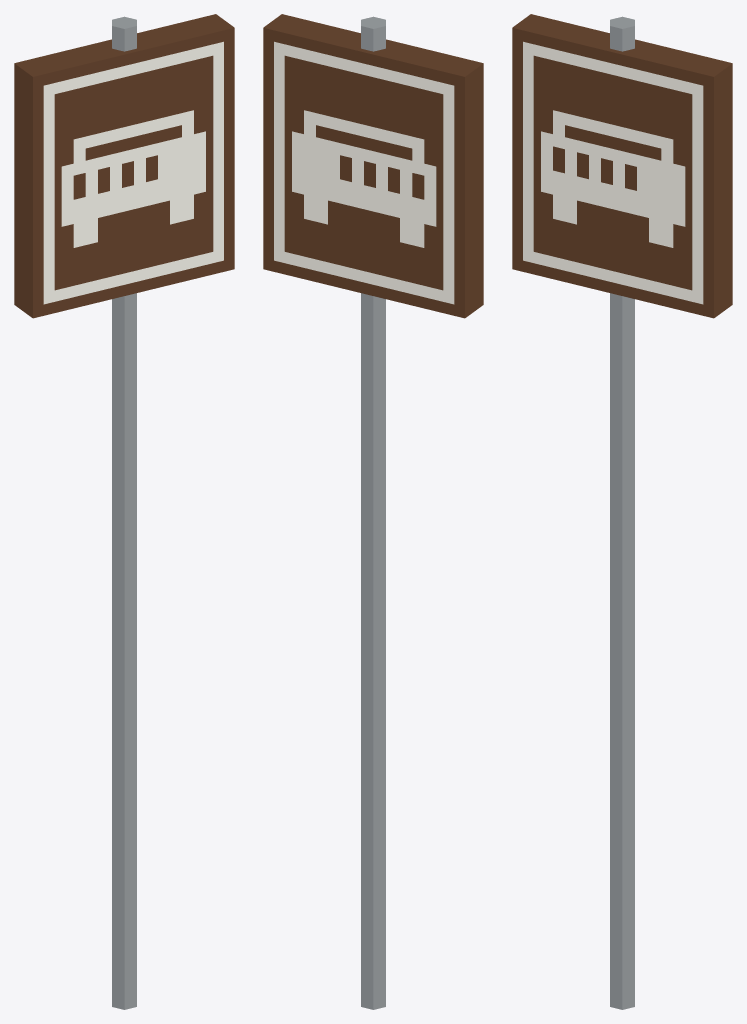
The model's file is sf_cable_car_stop_sign.glb.
3 renders of one model, left to right at view 1: azimuth 30°, elevation 25°; view 2: azimuth 150°, elevation 25°; view 3: azimuth 330°, elevation 25°, orthographic.
Visible parts, largest first — view 1: sf_cable_car_stop_sign; view 2: sf_cable_car_stop_sign; view 3: sf_cable_car_stop_sign.
Part boxes in pixels (x1,y1,x2,y2): sf_cable_car_stop_sign: [14, 14, 234, 1009]; sf_cable_car_stop_sign: [263, 14, 483, 1009]; sf_cable_car_stop_sign: [512, 14, 732, 1009].
Bounding box in the file's own units: 0.5599 × 2.6 × 0.0901.
Materials: 1 (1 with a texture image).
